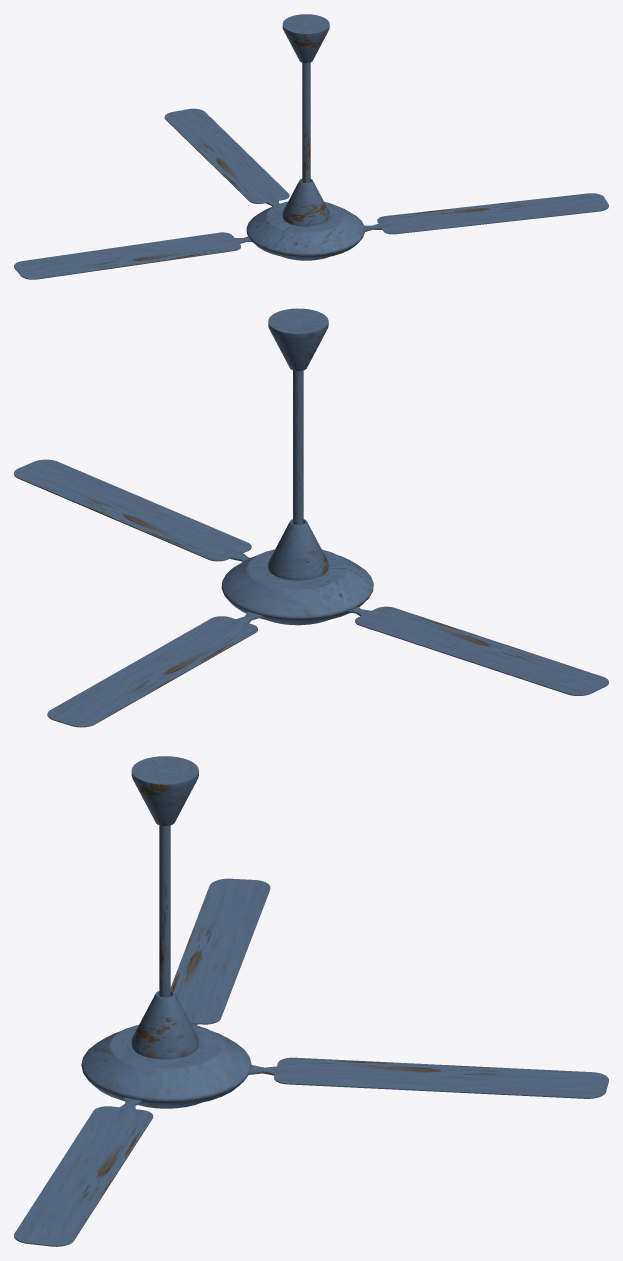
The model's file is electronic_rusty_fan.fbx.
The picture shows the model from 3 angles, top to bottom: view 1: azimuth 30°, elevation 25°; view 2: azimuth 150°, elevation 25°; view 3: azimuth 270°, elevation 25°; orthographic projection. The views are drawn at different scales.
Parts seen in each view (by area): view 1: Cylinder; view 2: Cylinder; view 3: Cylinder.
Part boxes in pixels (x1,y1,x2,y2): Cylinder: (14, 14, 608, 279); Cylinder: (14, 308, 608, 727); Cylinder: (14, 756, 608, 1246).
Size of the model in its own units: 4178 by 1705 by 2894.
1 material, 1 textured.
